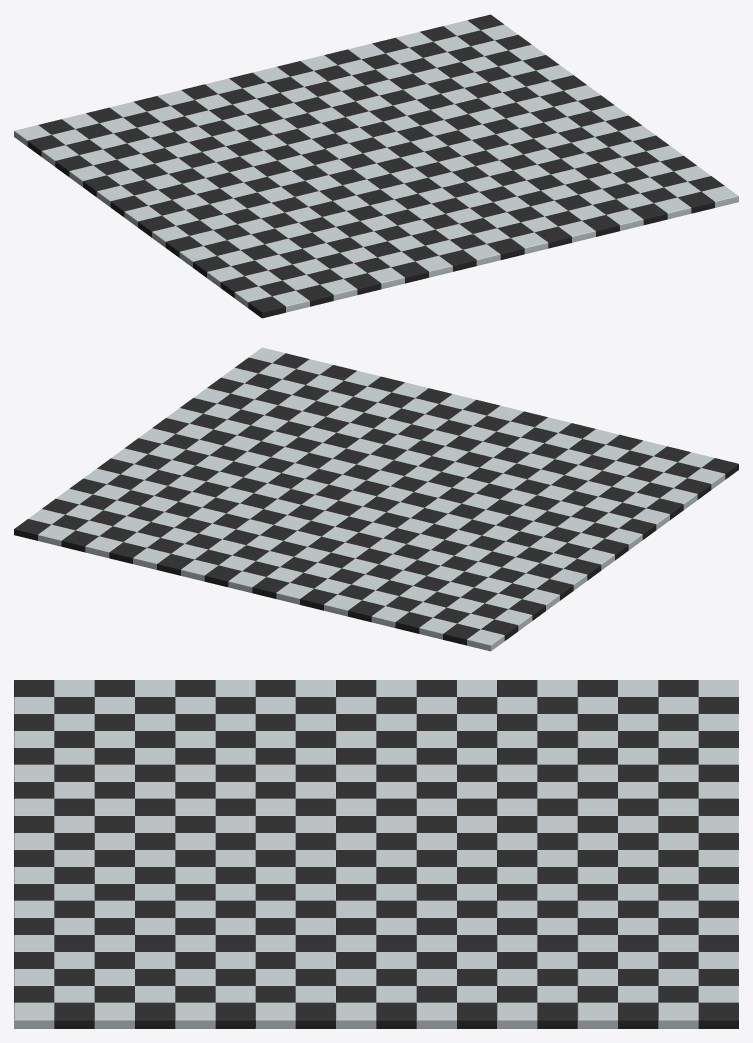
Rendered from mutfak_zemin (1).fbx.
The picture shows the model from 3 angles, top to bottom: view 1: azimuth 30°, elevation 25°; view 2: azimuth 150°, elevation 25°; view 3: azimuth 270°, elevation 25°; orthographic projection. The views are drawn at different scales.
Visible parts, largest first — view 1: zemin; view 2: zemin; view 3: zemin.
Part boxes in pixels (bbox=[...]): zemin: bbox=[14, 14, 738, 318]; zemin: bbox=[14, 347, 738, 651]; zemin: bbox=[14, 680, 738, 1028].
Size of the model in its own units: 3992 by 50 by 3598.
Materials: 1 (1 with a texture image).
